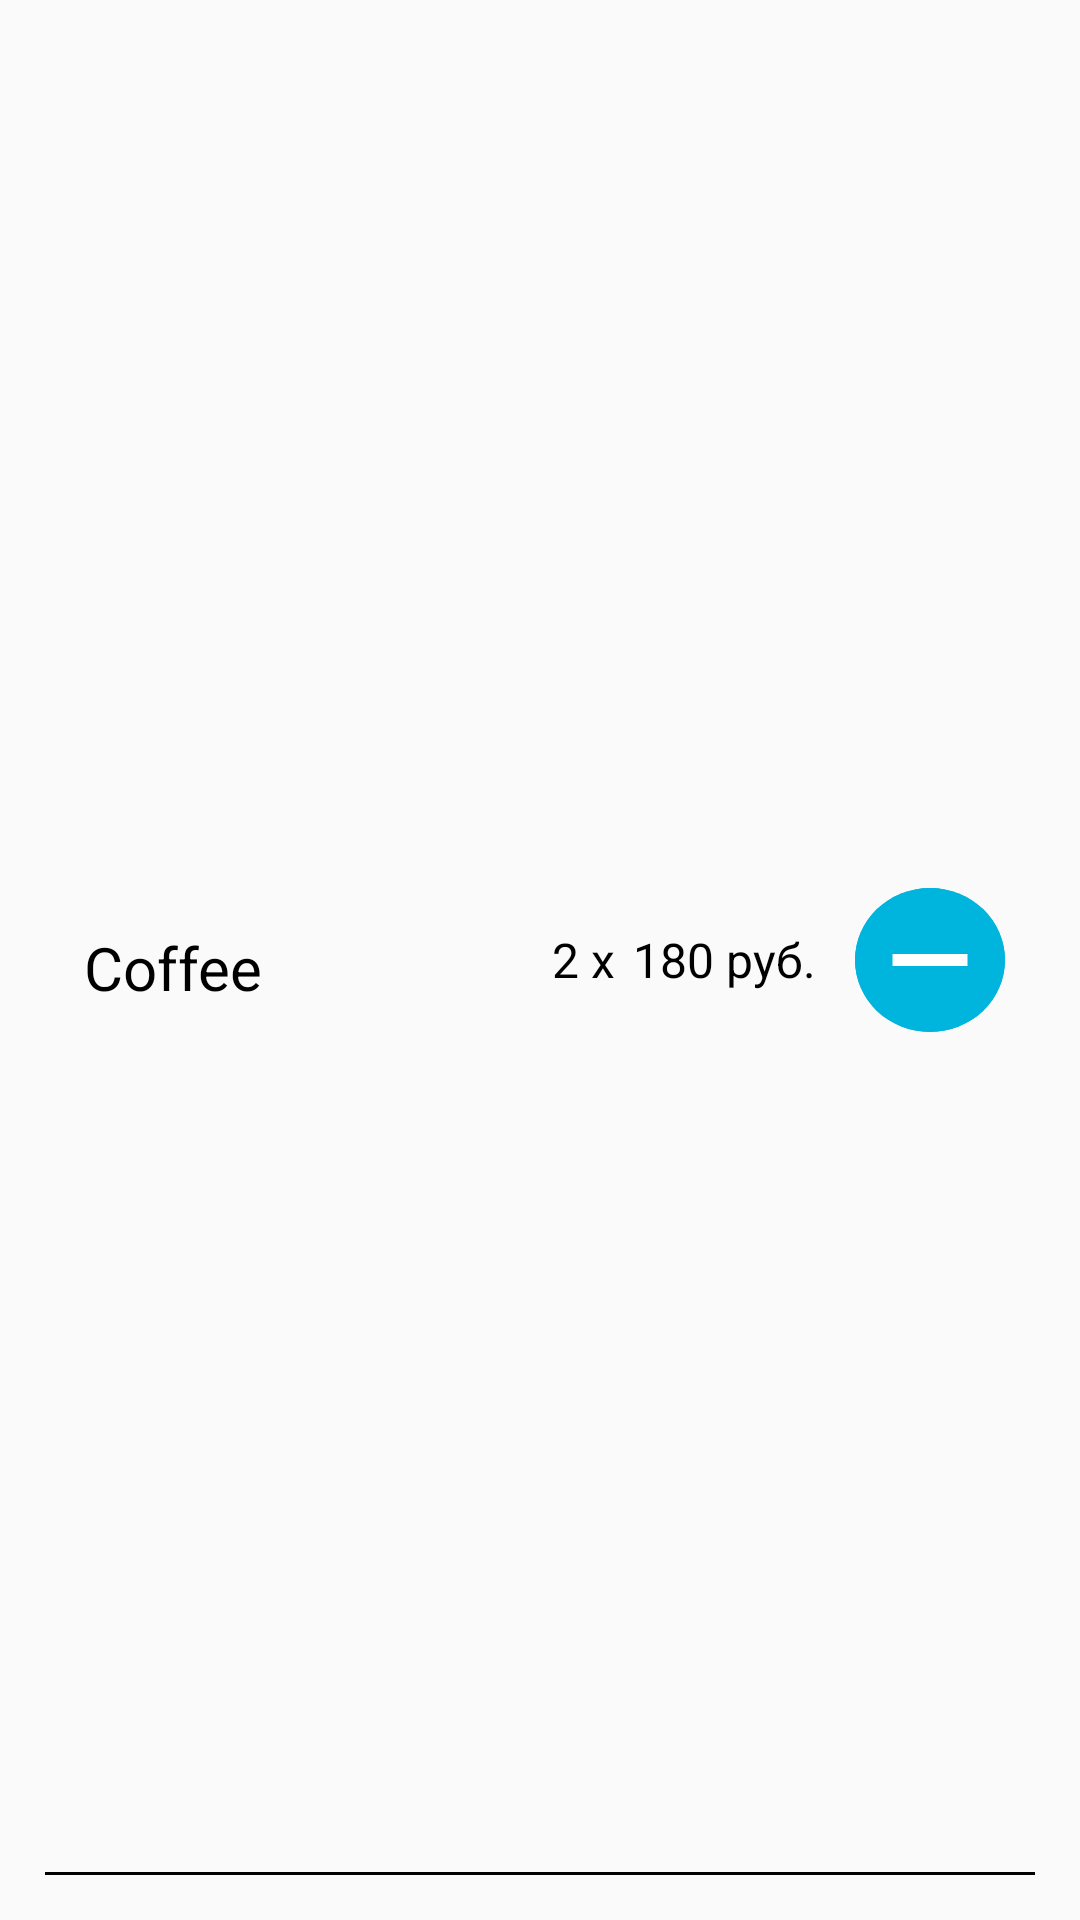

Icon bounding boxes for this 1080 x 1920 phone screenshot, format (x1, y1, x2, y2):
remove: (855, 888, 1005, 1032)
